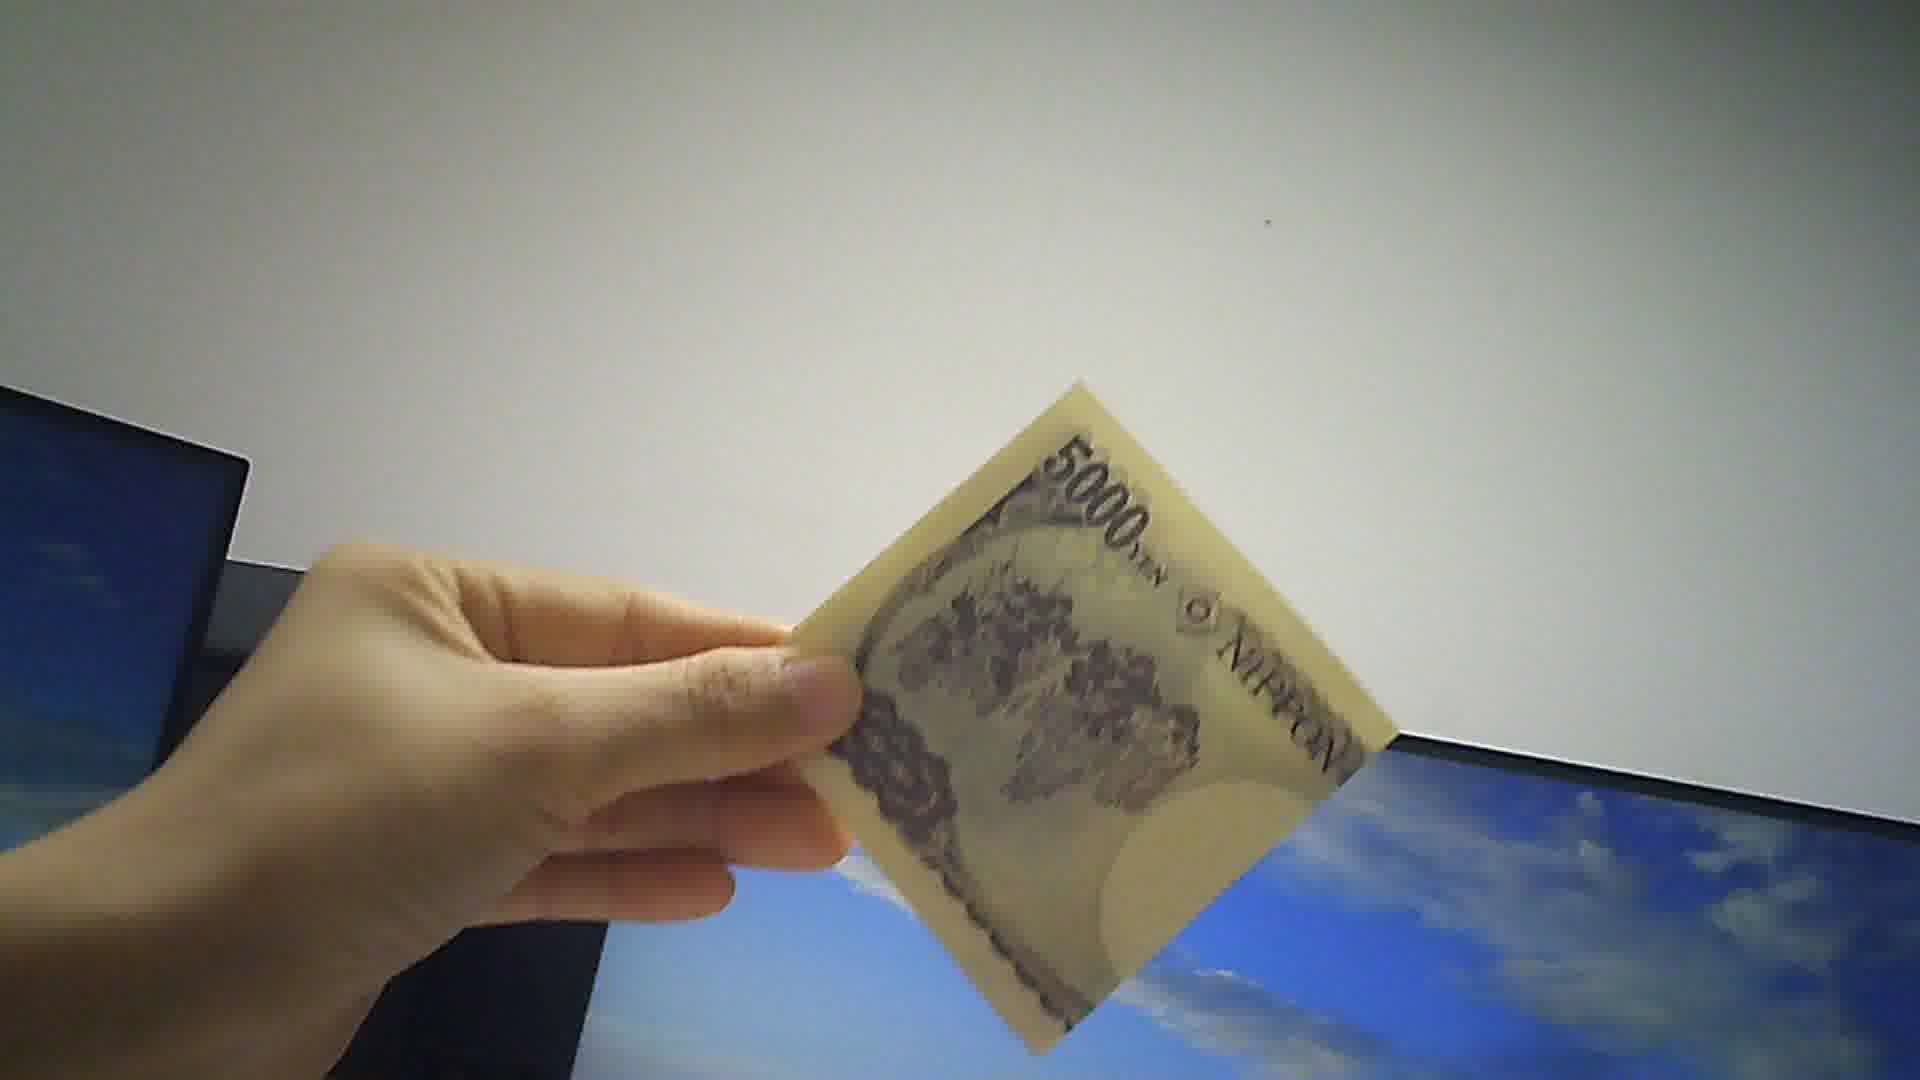5,000 Yen: (766, 390, 1400, 1054)
